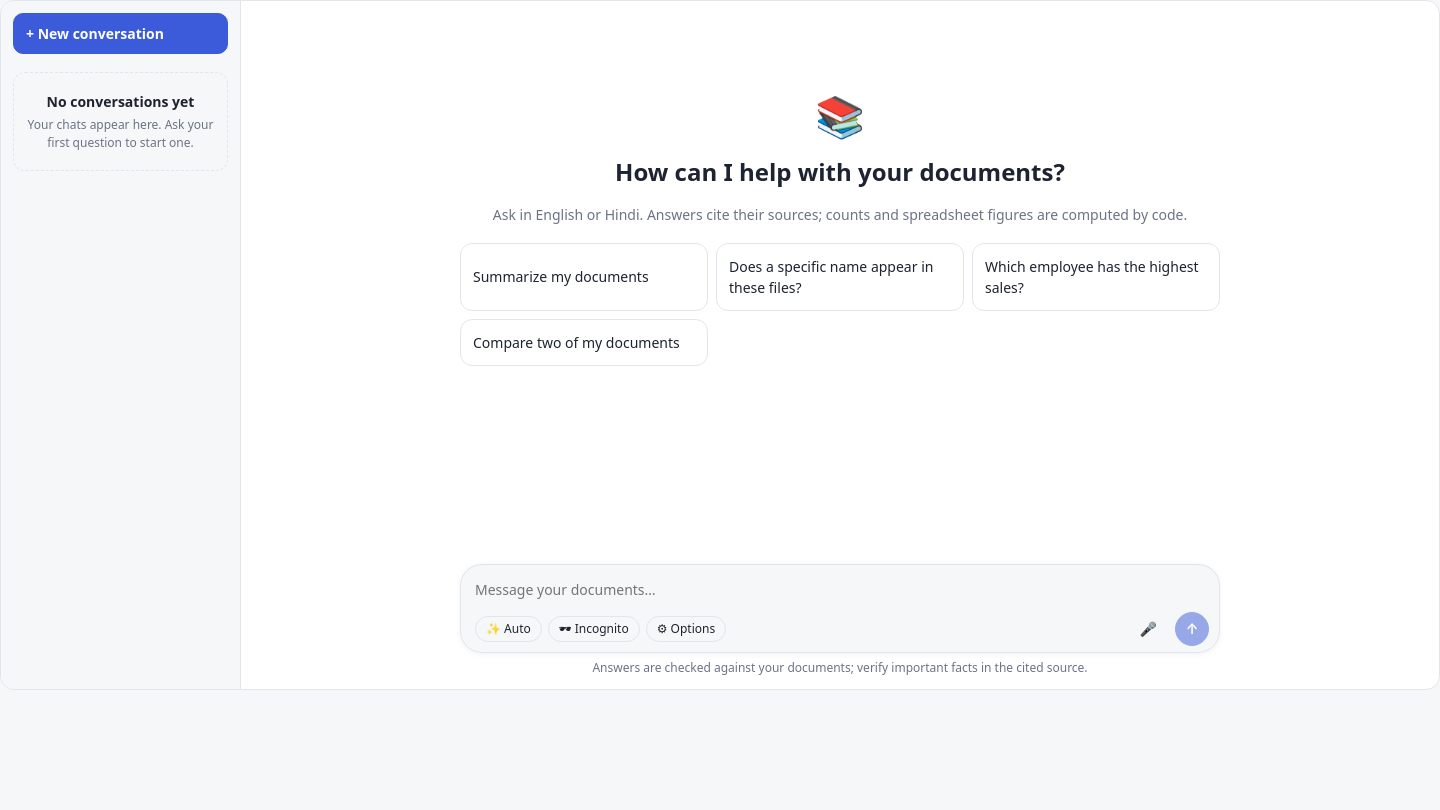
Test: Chat streaming › Stop aborts the request, keeps the partial text and allows a new question
Type "long one" into the text box named "Question" at (842, 590), box [475, 573, 1209, 606]
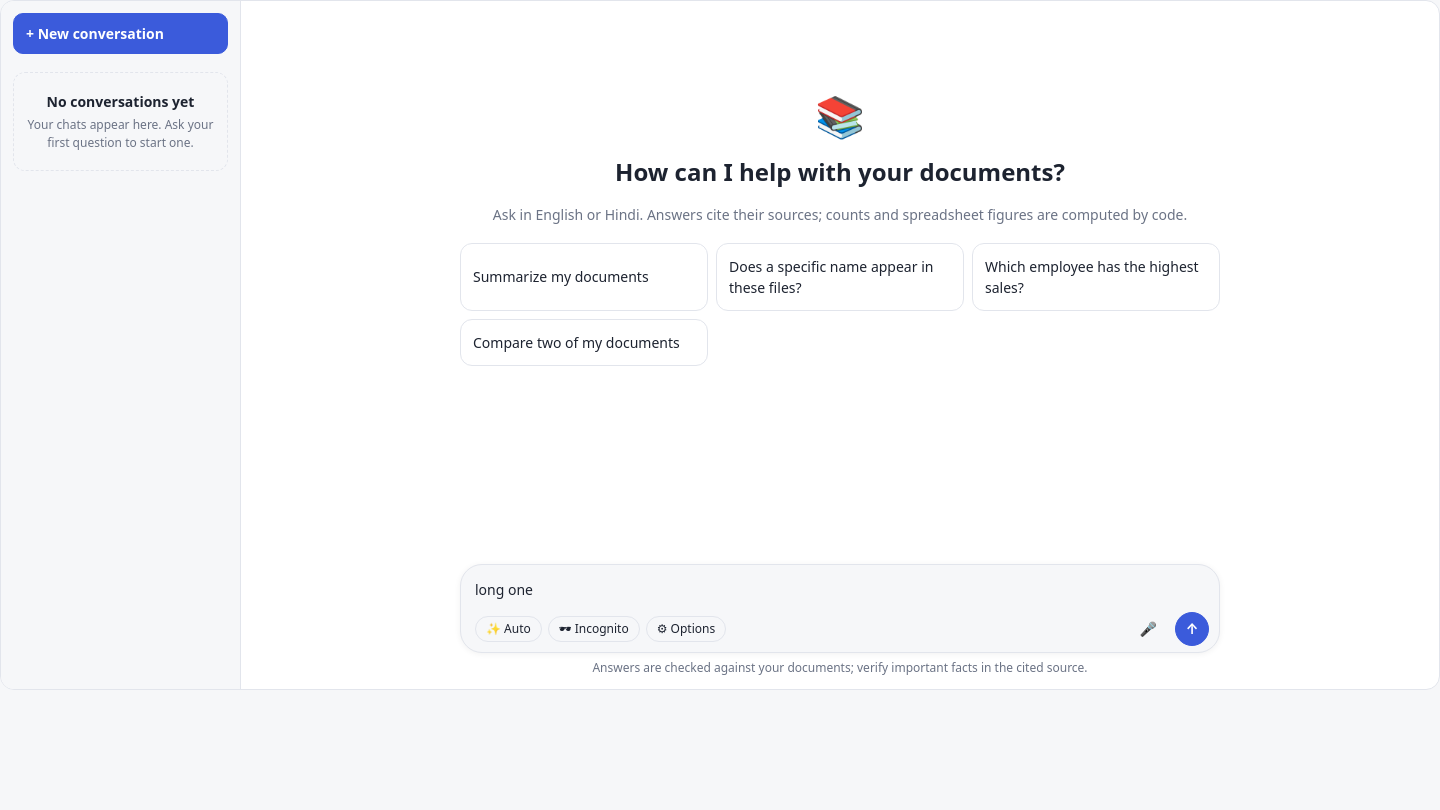
Click the button named "Ask" at (1192, 628), box [1175, 612, 1209, 646]
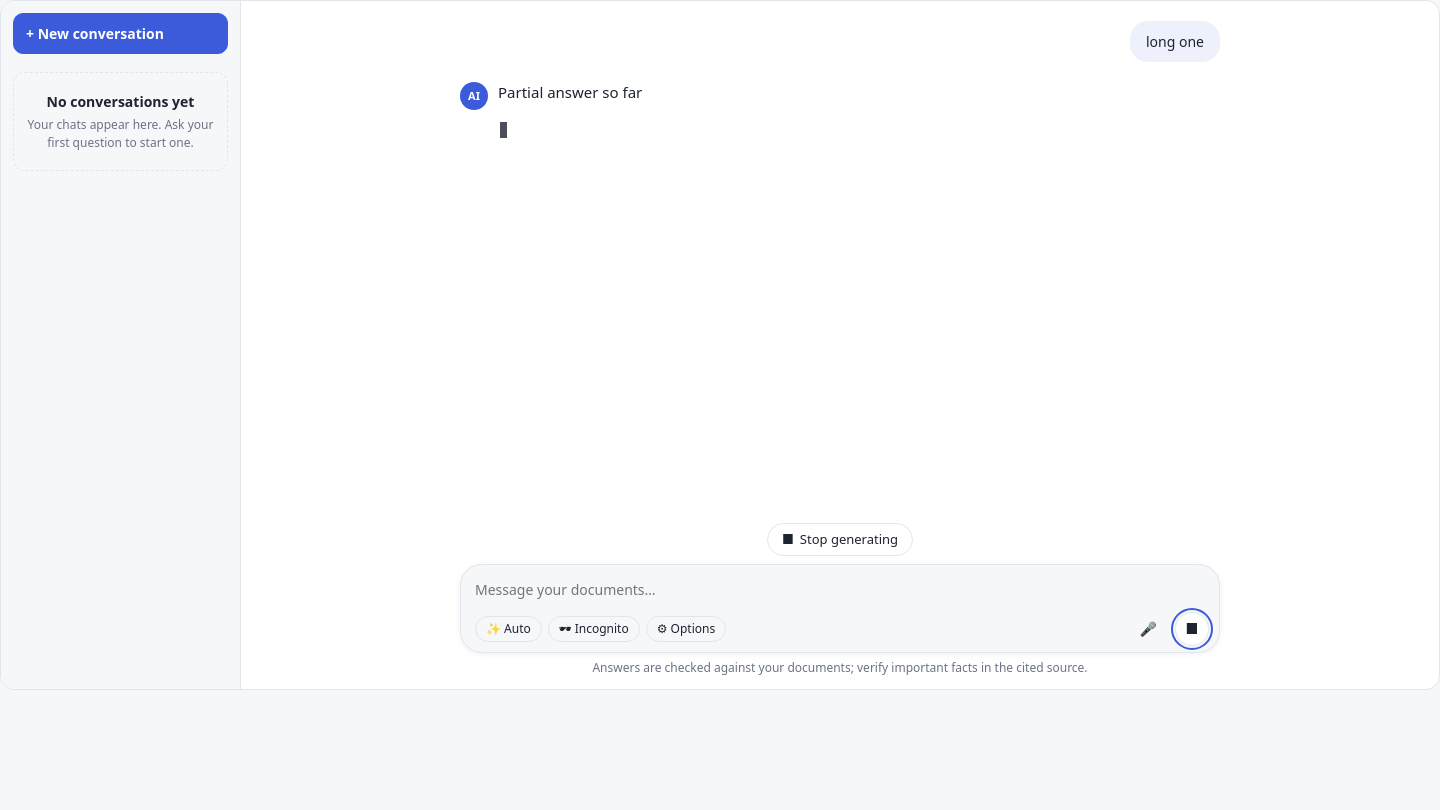
Expected: the text "Partial answer so far" is shown, [498, 82, 642, 102]
Click the button "■ Stop generating" at (840, 539), box [767, 522, 913, 556]
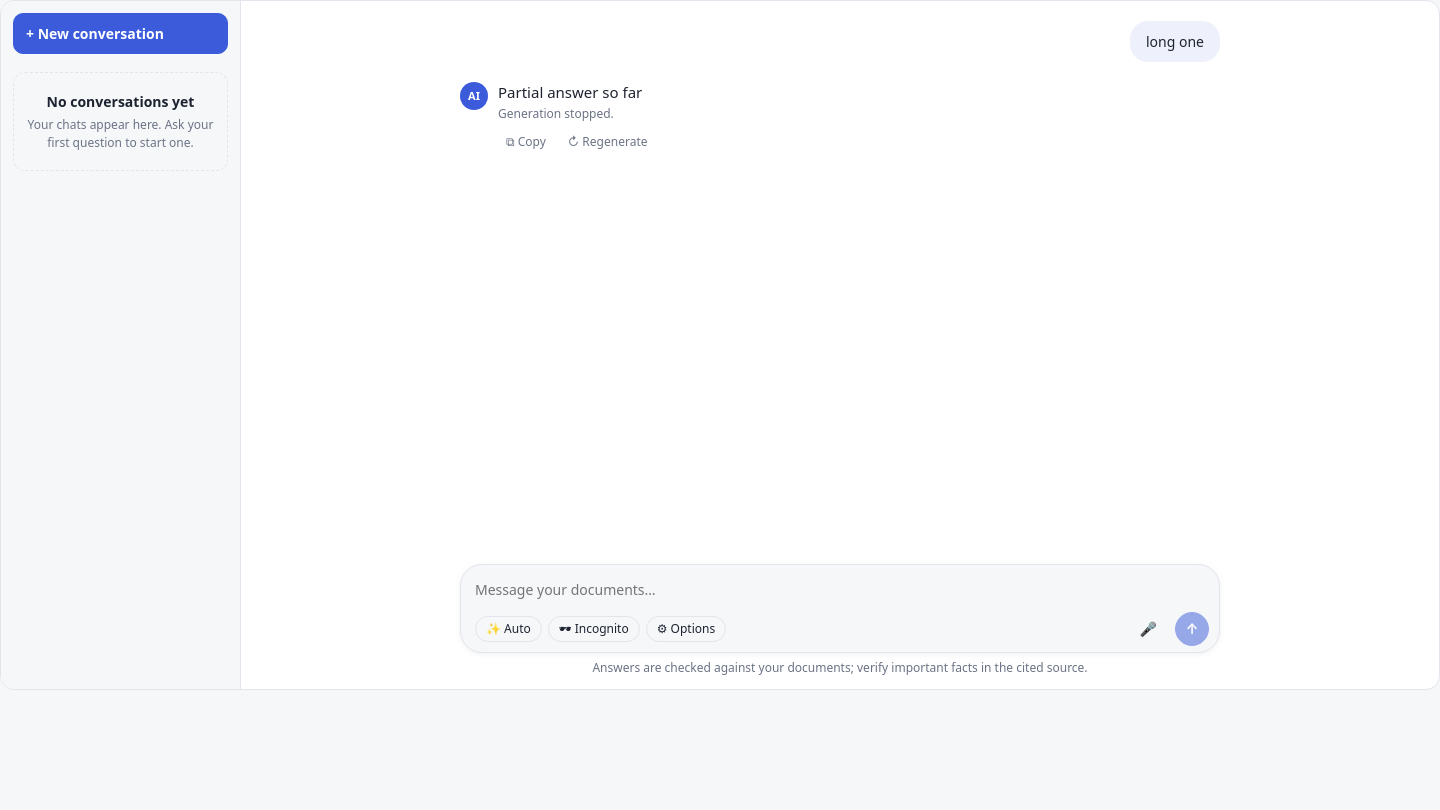
Expected: the text "Partial answer so far" is shown, [498, 82, 642, 102]
Expected: the text "Generation stopped." is shown, [498, 105, 614, 122]
Expected: the button named "Ask" is disabled, [1175, 612, 1209, 646]
Type "another" into the text box named "Question" at (842, 590), box [475, 573, 1209, 606]
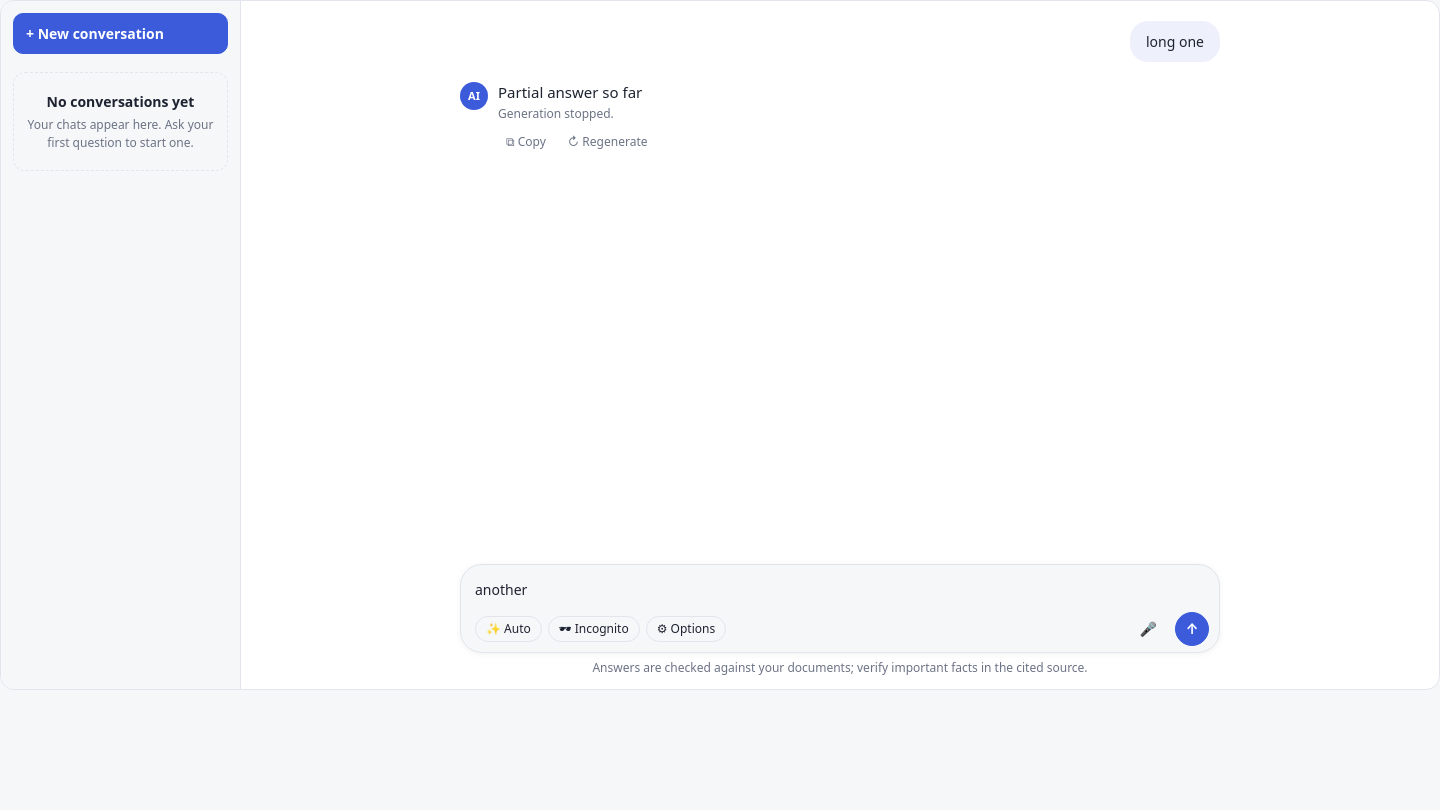
Expected: the button named "Ask" is enabled, [1175, 612, 1209, 646]
